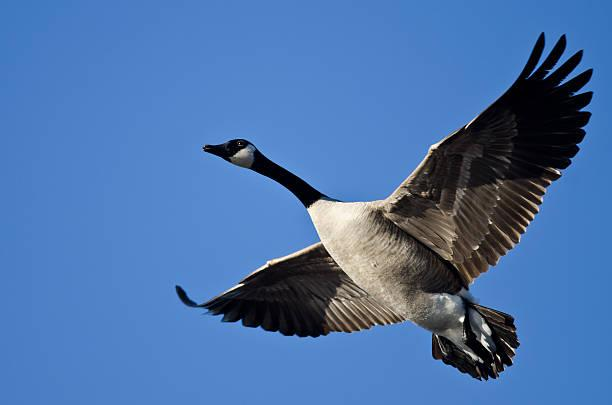Canadian-Goose: (162, 33, 588, 381)
